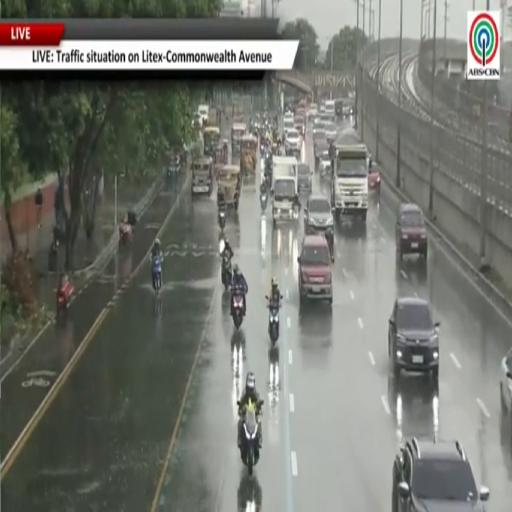car: (391, 438, 489, 511), (388, 297, 439, 382), (298, 234, 332, 305), (304, 196, 333, 261), (396, 203, 428, 259), (500, 348, 511, 421), (314, 138, 329, 170), (285, 128, 302, 154), (298, 164, 312, 194), (319, 152, 332, 180), (369, 163, 380, 195), (313, 120, 325, 142), (294, 114, 305, 137), (325, 122, 337, 142), (198, 105, 209, 125), (342, 100, 354, 118), (325, 101, 335, 120), (283, 118, 294, 135), (308, 104, 317, 119), (320, 112, 332, 123), (283, 112, 293, 121)
jeepney: (218, 165, 241, 210), (192, 157, 213, 195), (240, 135, 257, 180), (214, 139, 228, 177), (231, 123, 247, 156), (204, 126, 220, 156)
motorcycle: (241, 400, 263, 475), (266, 296, 279, 345), (56, 280, 73, 317), (231, 287, 244, 329), (221, 256, 232, 290), (152, 258, 162, 294), (119, 223, 133, 246), (260, 188, 267, 211), (218, 210, 226, 230), (260, 141, 266, 156)
truck: (331, 143, 369, 221), (271, 162, 298, 227), (273, 156, 298, 178)
